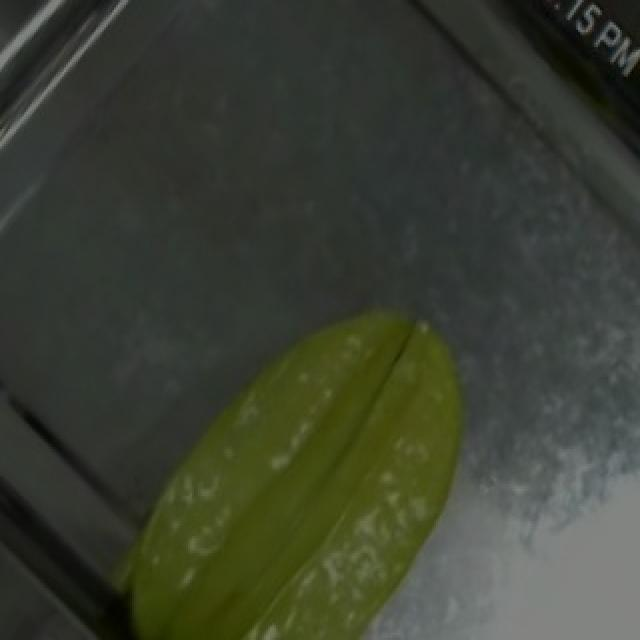fruit: (60, 270, 480, 640)
